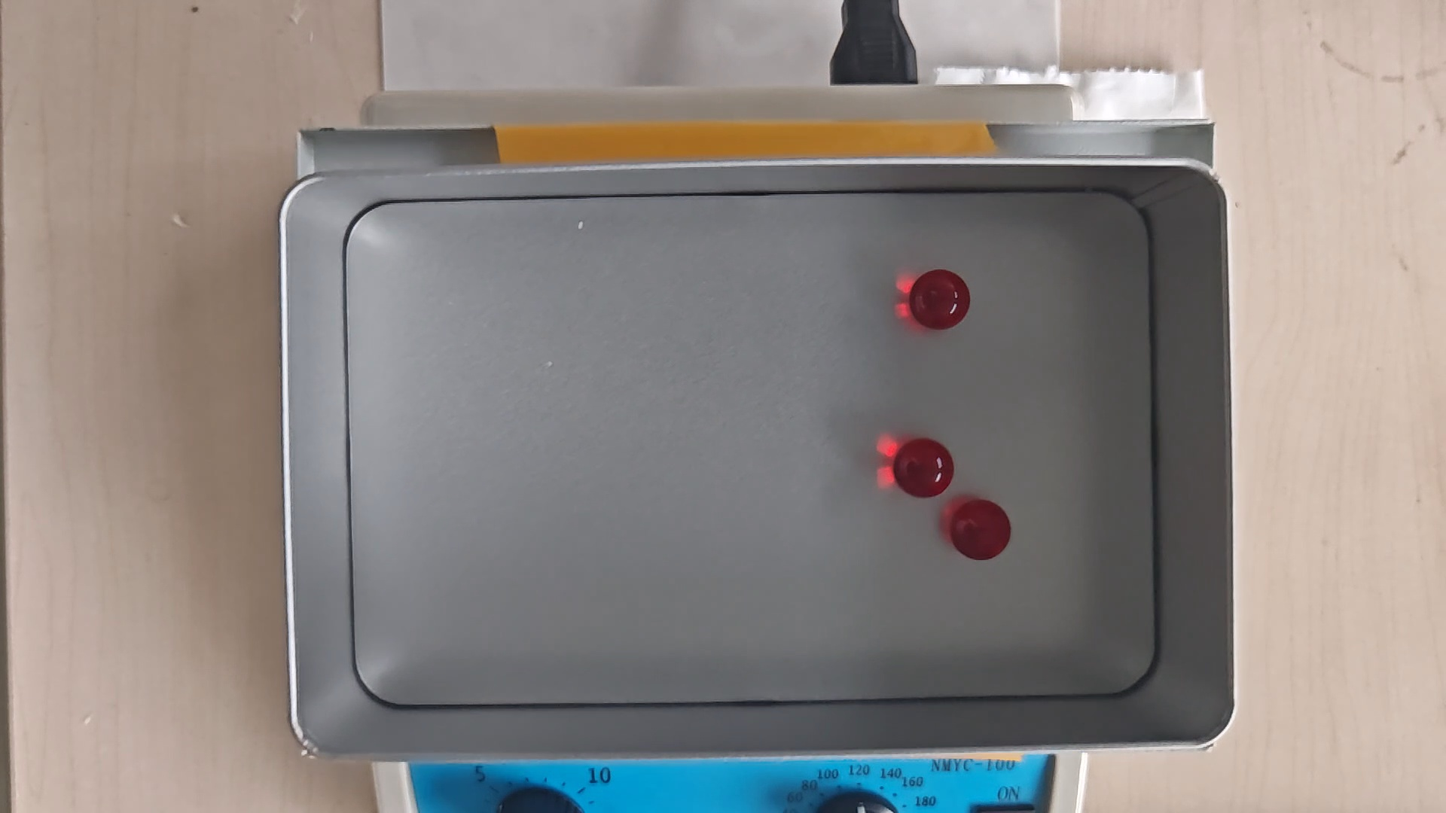ball: (951, 499, 1010, 561), (909, 267, 968, 328), (897, 437, 952, 497)
container: (348, 192, 1154, 703)
